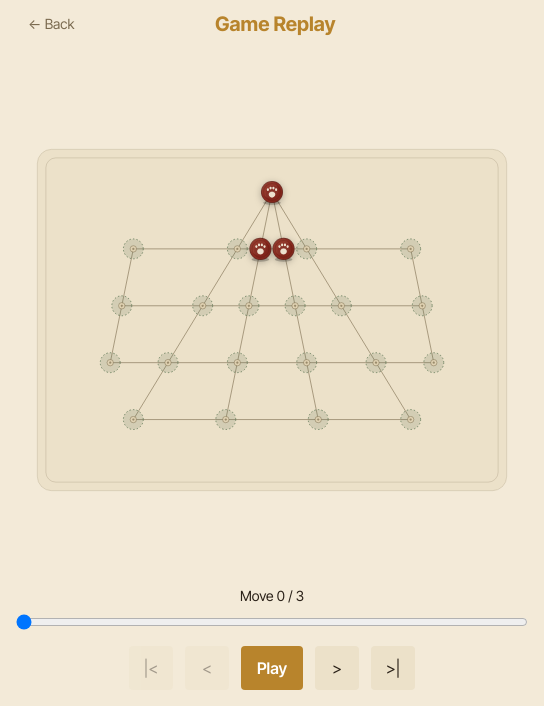
it: ReplayScreen › auto-play increments moveIndex at 1s intervals
The width and height of the screenshot is (544, 706).
Click the button with test id "replay-play" at (272, 668), box [241, 646, 303, 690]
Wait 2000 ms
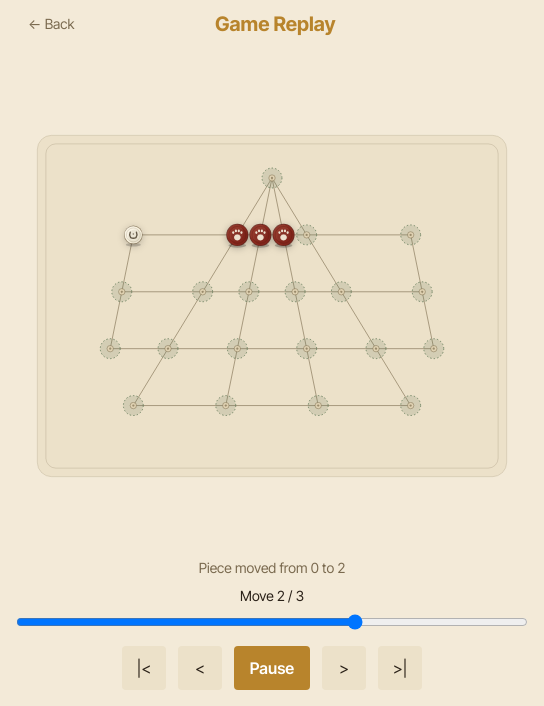
expect the text "Move 2 / 3" is shown: met, box [240, 586, 304, 606]
